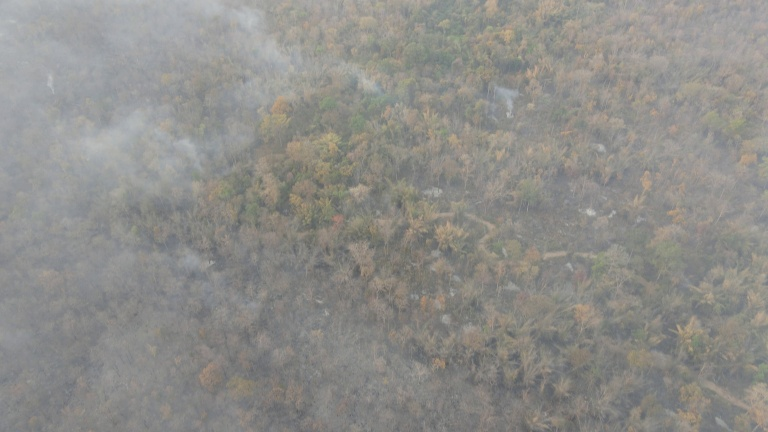smoke: (1, 1, 395, 212), (3, 217, 367, 432), (489, 78, 520, 125)
